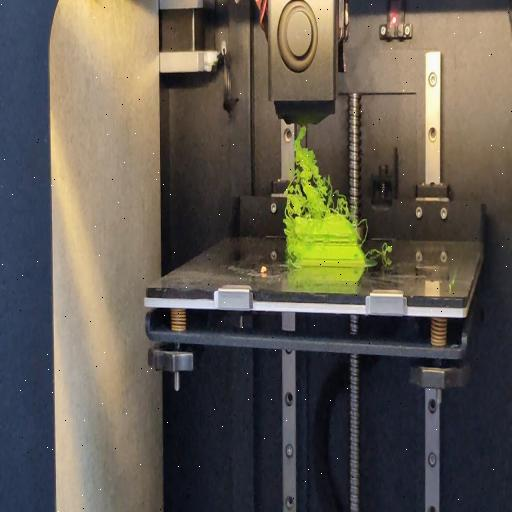spaghetti: (281, 122, 353, 224), (366, 243, 396, 261), (285, 222, 296, 268), (357, 214, 369, 244)
